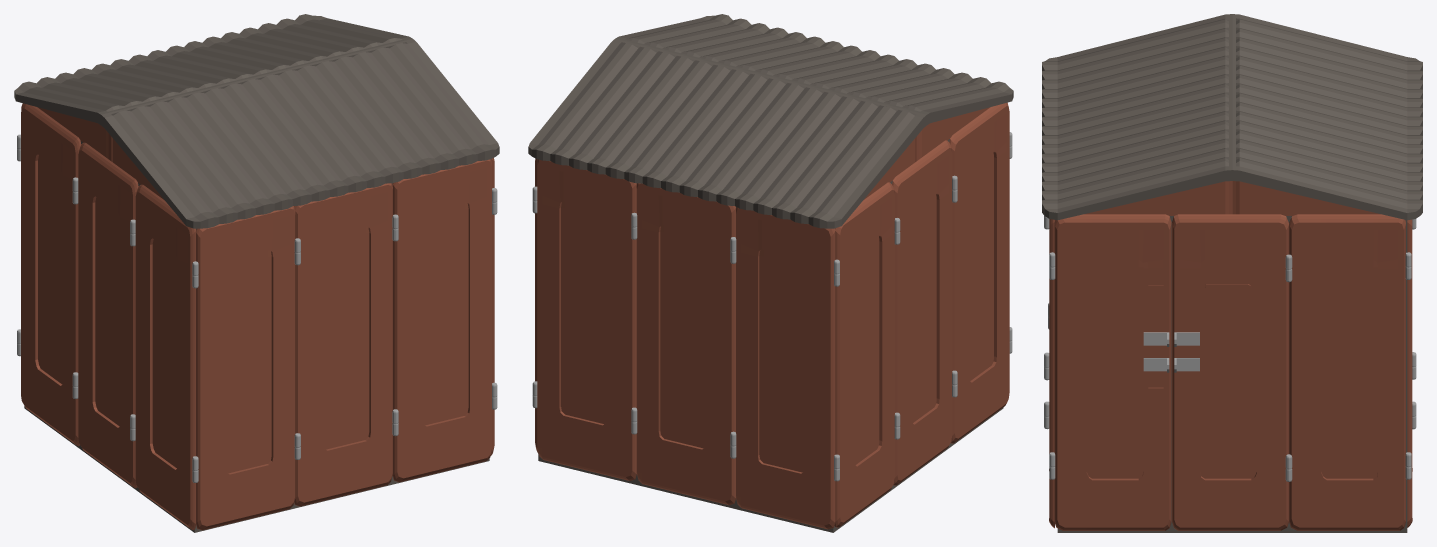
The model's file is Gar_ash1.fbx.
3 renders of one model, left to right at view 1: azimuth 30°, elevation 25°; view 2: azimuth 150°, elevation 25°; view 3: azimuth 270°, elevation 25°, orthographic. The views are drawn at different scales.
Visible parts, largest first — view 1: Плоскость.002, Куб.001, Окружность.001, Плоскость.005; view 2: Плоскость.002, Куб.001, Окружность.001; view 3: Куб.001, Плоскость.002, Плоскость.005, Плоскость.004, Окружность.001.
Part boxes in pixels (box(x1,y1,x2,y2)): Плоскость.002: box(21, 103, 491, 530); Куб.001: box(14, 14, 499, 532); Окружность.001: box(17, 134, 497, 482); Плоскость.005: box(491, 158, 494, 455); Плоскость.002: box(535, 102, 1009, 529); Куб.001: box(528, 14, 1013, 532); Окружность.001: box(532, 132, 1012, 481); Куб.001: box(1042, 14, 1422, 532); Плоскость.002: box(1049, 214, 1412, 530); Плоскость.005: box(1054, 214, 1171, 530); Плоскость.004: box(1172, 214, 1288, 530); Окружность.001: box(1044, 215, 1416, 481).
Bounding box in the file's own units: 213 × 233 × 218.
